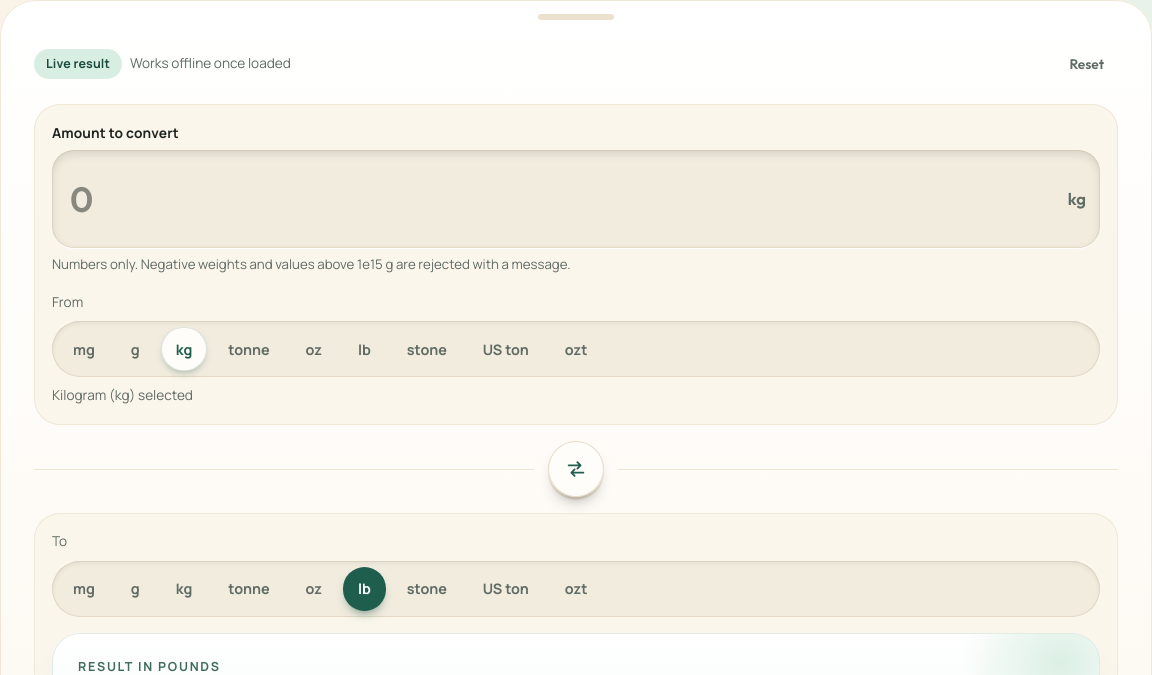
Test: WeightConverter › says a value beyond safe precision is out of range
Step 1. Click the radio button named "Tonne (t)" → (249, 349), box [213,327,285,371]
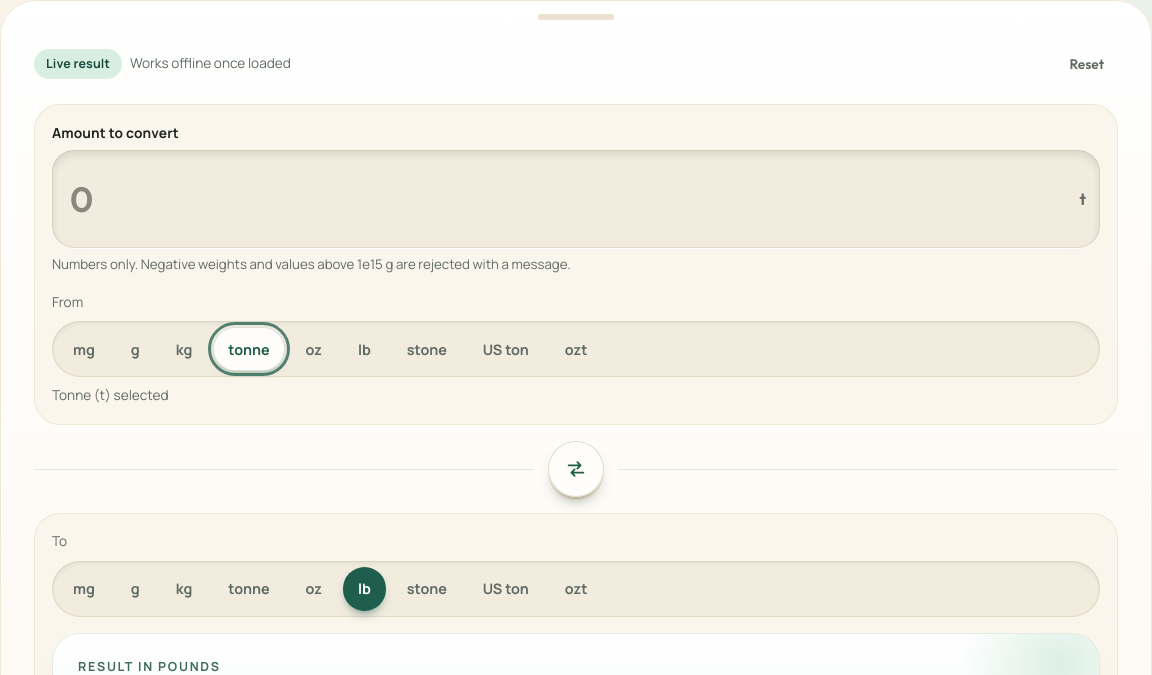
Step 2. Type "1000000000000" into the field labelled "Amount to convert" → (569, 199), box [66,158,1072,240]
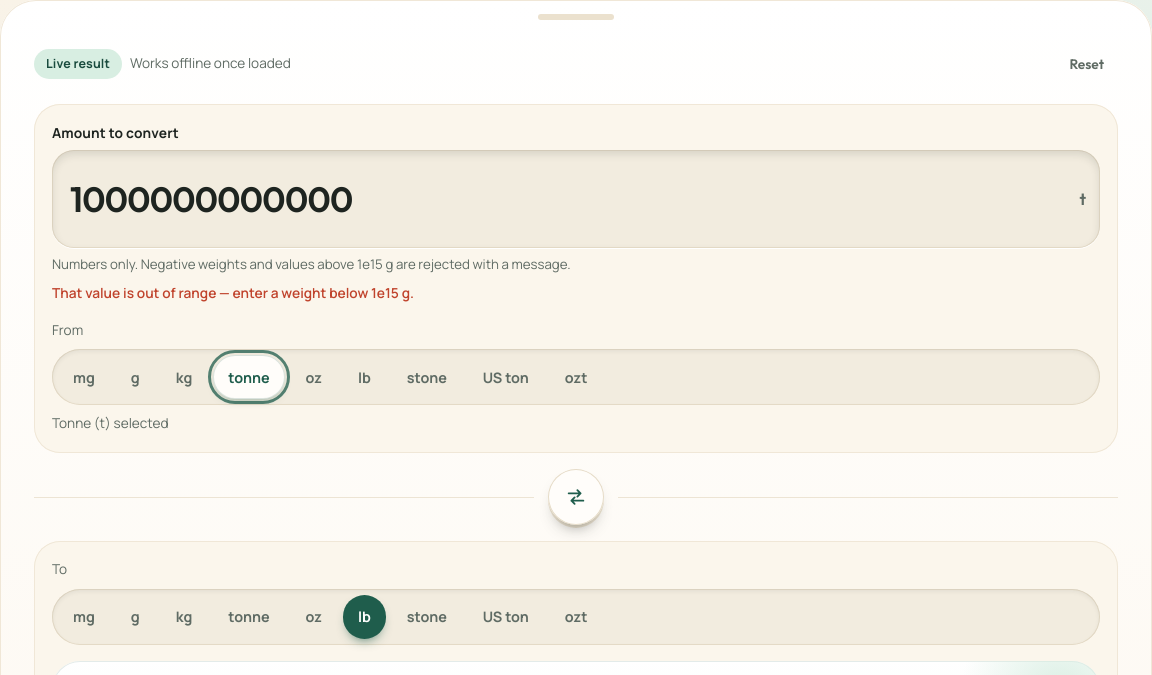
Check: the text "That value is out of range — enter a weight below 1e15 g." is shown, box [52,283,414,302]
